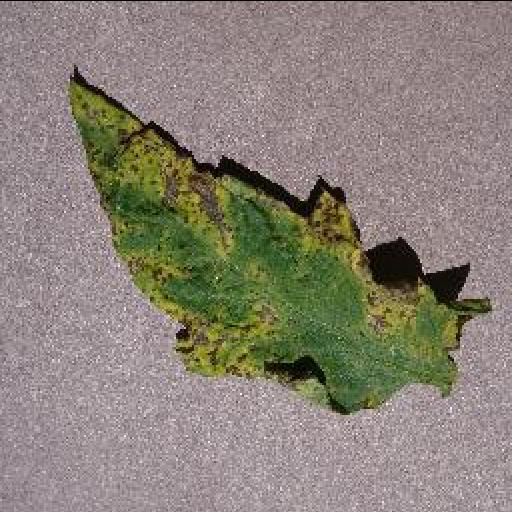disease_tomato: (64, 72, 488, 410)
